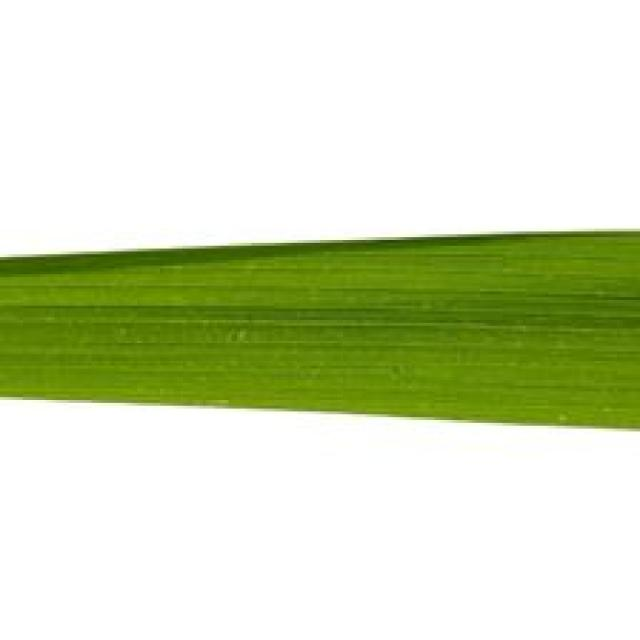Rice___Healthy_Rice_Plant: (0, 232, 637, 435)
